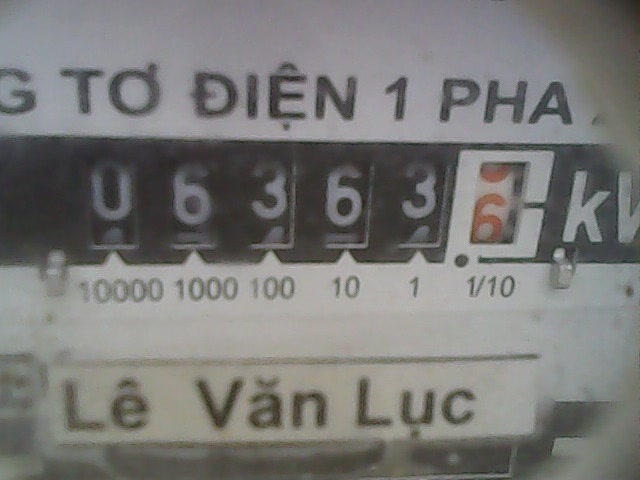phy_plate: (70, 128, 560, 265)
